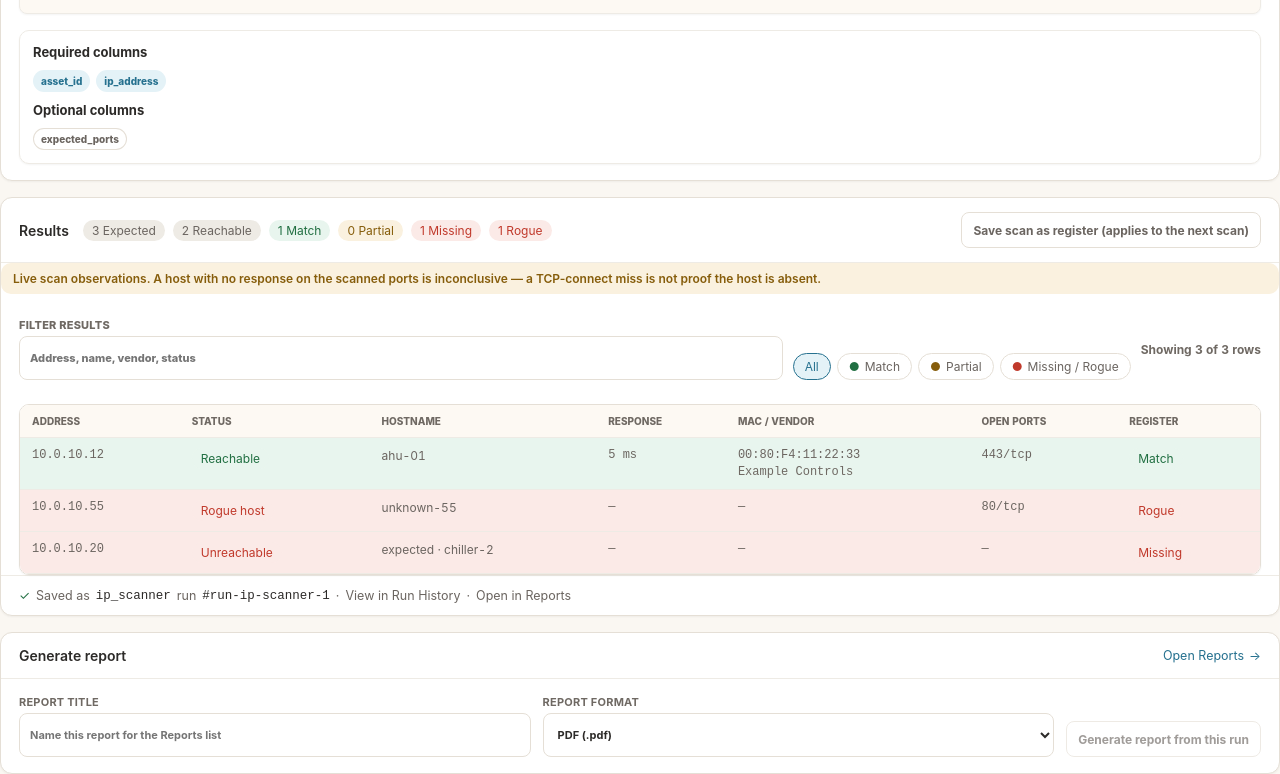
Test: IpScannerPage › fills the side panel from the clicked row, banner, latency and found-via included
(page scrolled)
Click the text "10.0.10.12". click: x=640, y=464
box: x1=20 y1=438 x2=1260 y2=490
(page scrolled)
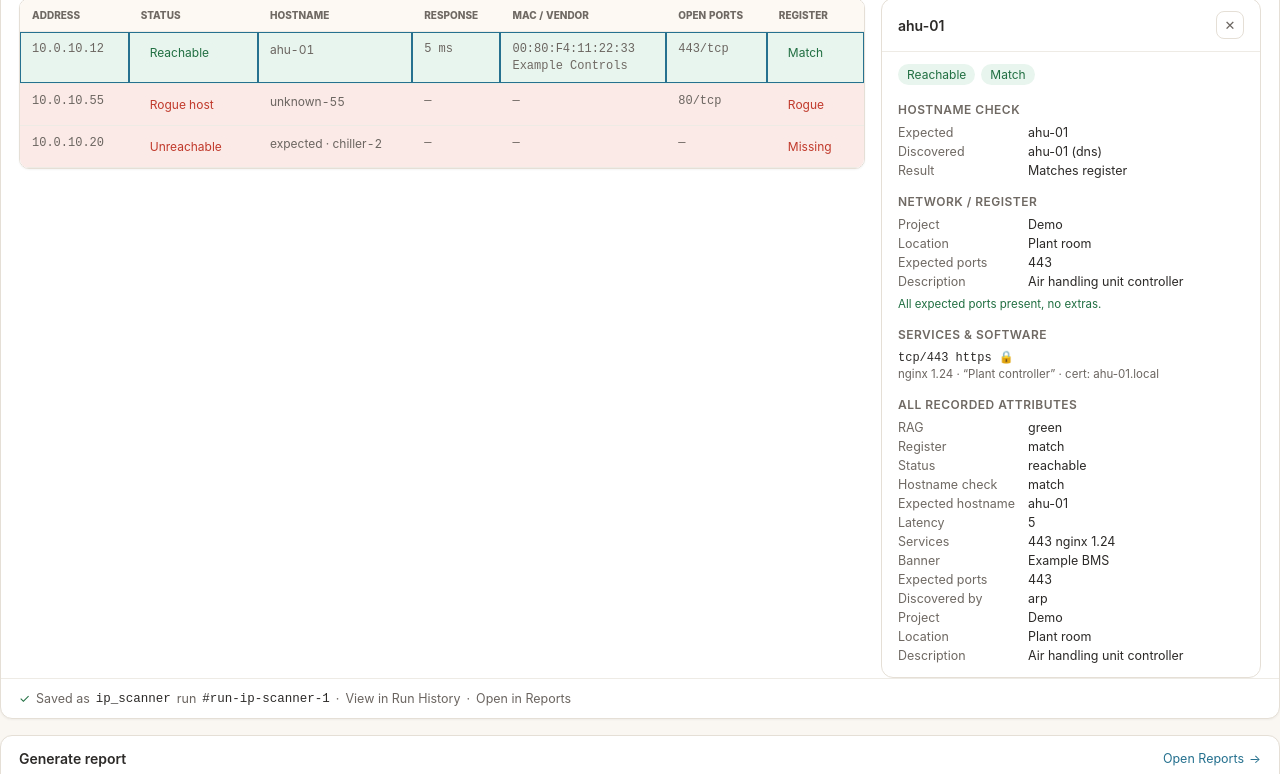
Now the heading "ahu-01" is shown, box x1=898 y1=17 x2=944 y2=34
Now the text "tcp/443 https 🔒" is shown, box x1=898 y1=351 x2=1014 y2=365
Now the text "nginx 1.24 · “Plant controller” · cert: ahu-01.local" is shown, box x1=898 y1=367 x2=1159 y2=381
